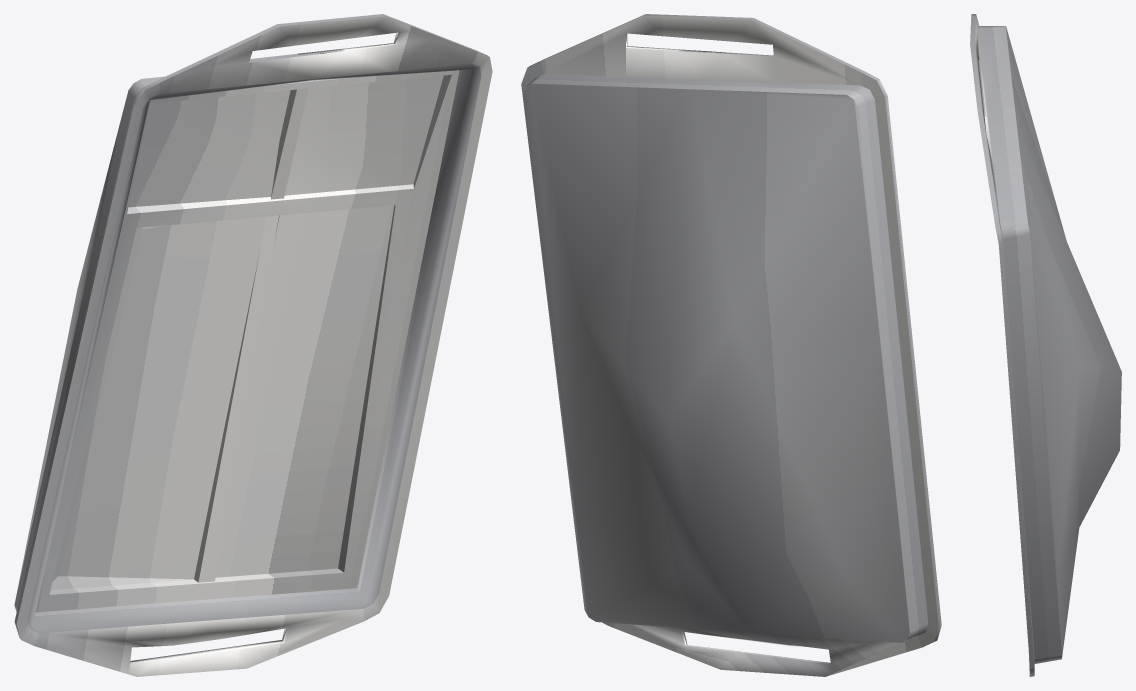
Rendered from H_MessTray.fbx.
3 views of the same model, side by side, from view 1: azimuth 30°, elevation 25°; view 2: azimuth 150°, elevation 25°; view 3: azimuth 270°, elevation 25° (orthographic). The views are drawn at different scales.
Parts seen in each view (by area): view 1: MessTray.002; view 2: MessTray.002; view 3: MessTray.002.
Part boxes in pixels (box(x1,y1,x2,y2)): MessTray.002: box(14, 14, 492, 676); MessTray.002: box(521, 14, 941, 676); MessTray.002: box(970, 14, 1121, 676).
Size of the model in its own units: 92.87 by 129 by 29.74.
